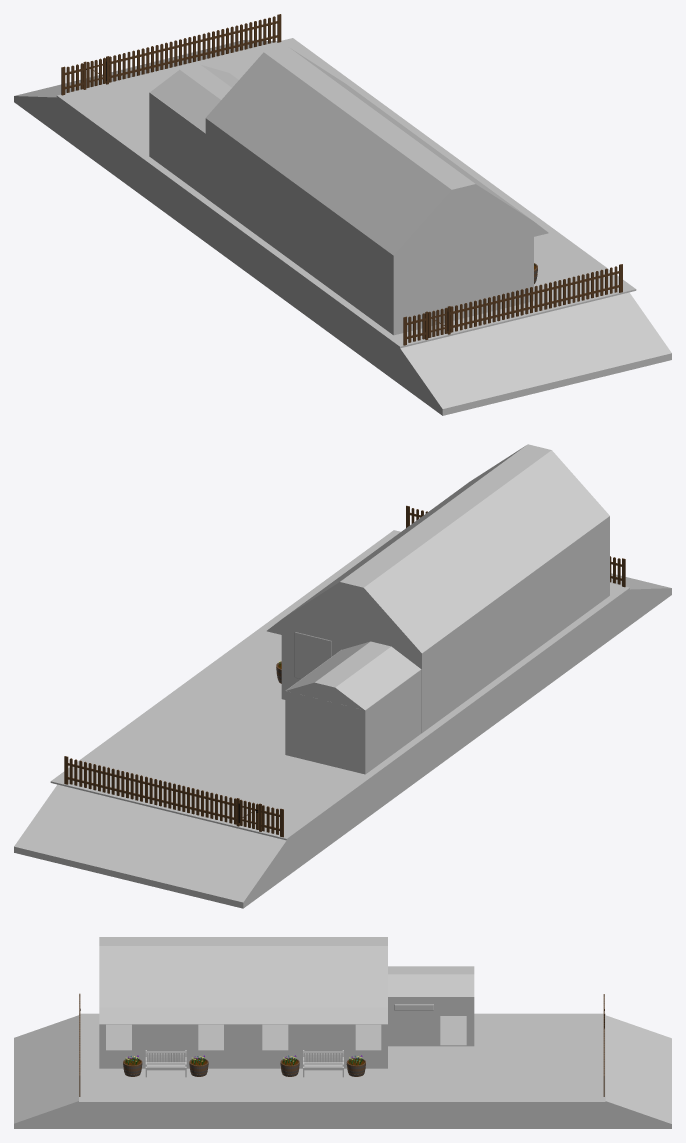
The model's file is StationBase.fbx.
3 renders of one model, top to bottom at view 1: azimuth 30°, elevation 25°; view 2: azimuth 150°, elevation 25°; view 3: azimuth 270°, elevation 25°, orthographic. The views are drawn at different scales.
Visible parts, largest first — view 1: Plane.001; view 2: Plane.001; view 3: Plane.001.
Boxes of the visible parts, <box> form: Plane.001: <box>14,14,671,415</box>; Plane.001: <box>14,444,671,908</box>; Plane.001: <box>14,937,671,1128</box>.
Bounding box in the file's own units: 3187 × 2188 × 10020.
